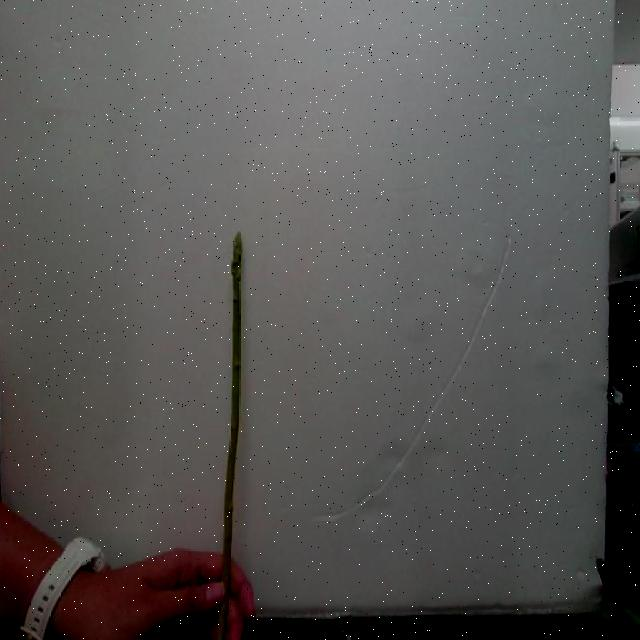aspargus: (216, 235, 243, 624)
